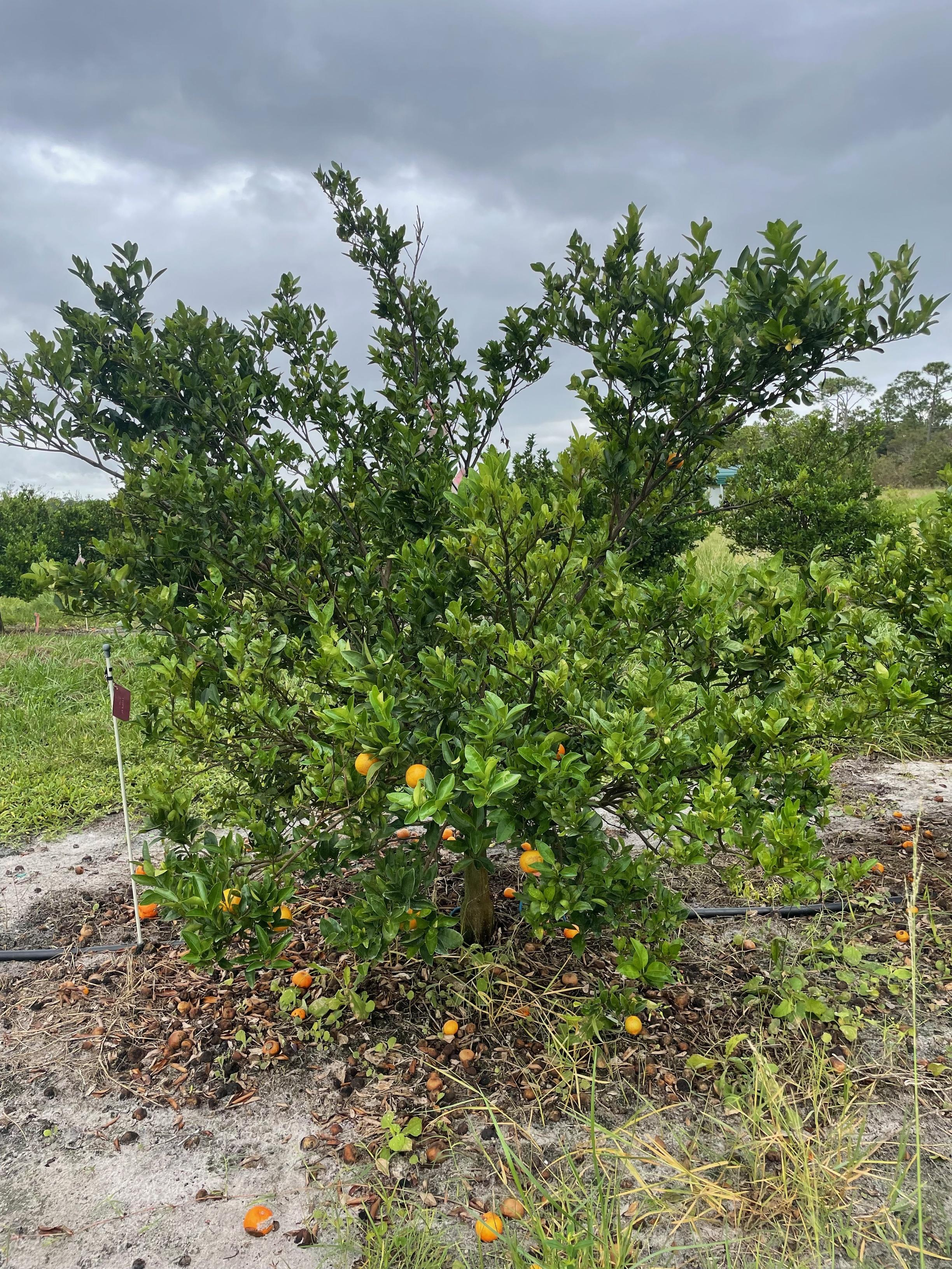fruit_on_ground: (264, 903, 295, 934), (393, 902, 424, 932), (353, 749, 383, 778), (216, 886, 245, 915), (517, 847, 546, 875), (404, 762, 432, 790), (546, 741, 568, 763), (664, 451, 686, 471)
fruit_on_tree: (241, 1203, 275, 1237), (473, 1210, 505, 1243), (499, 1195, 527, 1221), (424, 1140, 451, 1163), (135, 898, 162, 921), (622, 1012, 646, 1037), (289, 968, 313, 991), (825, 1054, 848, 1077), (340, 1141, 362, 1164), (167, 1028, 190, 1049), (423, 1069, 444, 1091), (260, 1037, 282, 1058), (561, 922, 583, 940), (441, 1017, 460, 1037), (559, 969, 580, 987), (458, 1046, 477, 1065), (133, 861, 152, 878), (289, 1005, 309, 1021), (894, 926, 911, 943), (441, 1089, 459, 1105), (521, 1085, 537, 1101), (740, 937, 757, 952), (439, 825, 456, 840), (517, 1003, 533, 1018), (522, 939, 539, 953), (133, 1106, 148, 1121), (228, 1048, 244, 1062), (519, 839, 535, 853), (871, 860, 886, 874), (395, 827, 411, 840), (502, 885, 516, 899), (665, 1090, 680, 1103), (905, 903, 920, 916), (934, 847, 948, 860), (902, 837, 915, 849), (73, 863, 85, 874), (922, 827, 934, 838), (901, 822, 913, 832), (892, 809, 903, 819)
